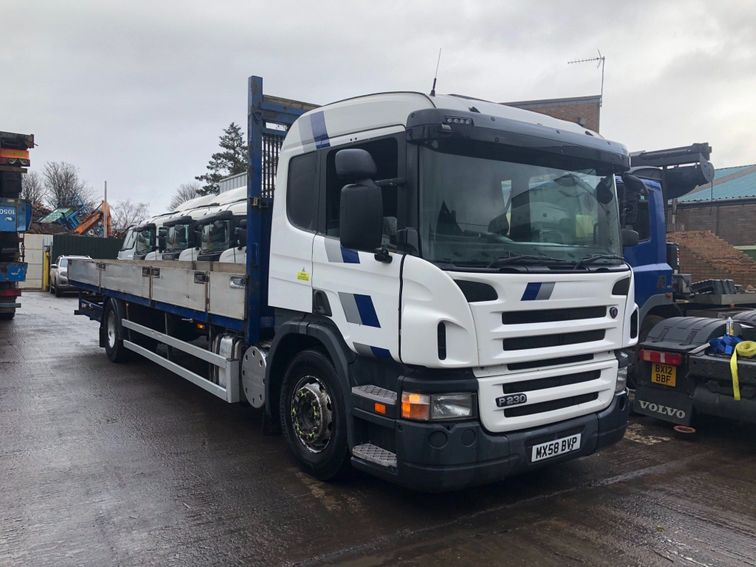Semi: (68, 75, 639, 488)
